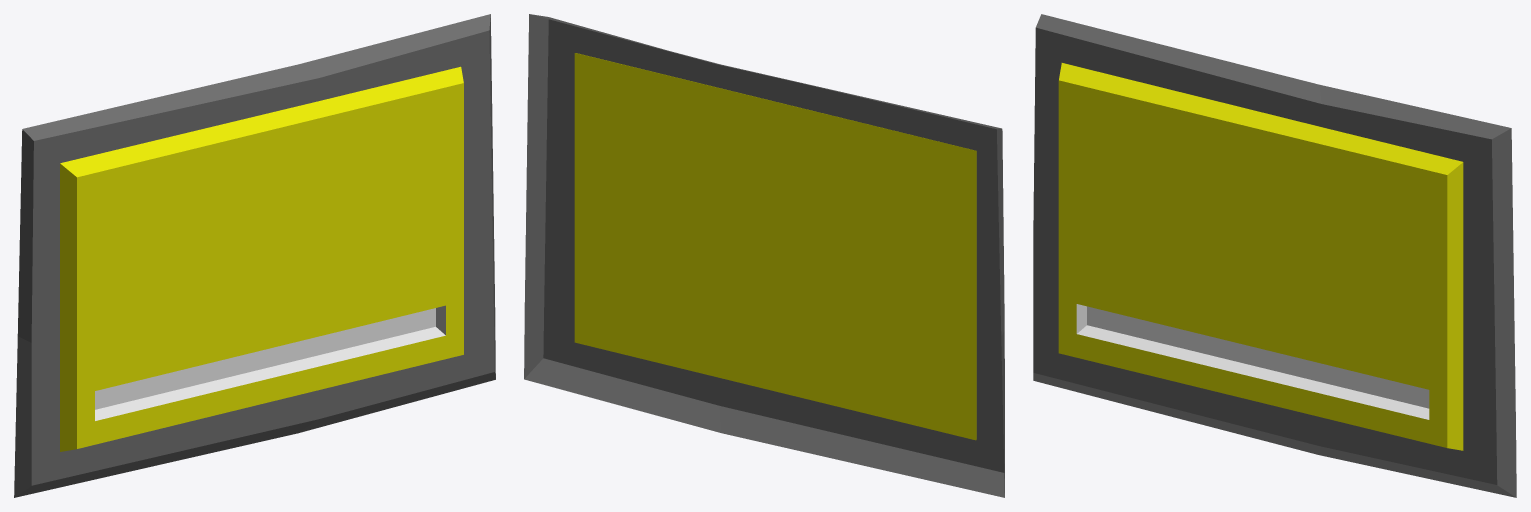
Rendered from Laundry_Luck.fbx.
3 renders of one model, left to right at view 1: azimuth 30°, elevation 25°; view 2: azimuth 150°, elevation 25°; view 3: azimuth 330°, elevation 25°, orthographic.
Visible parts, largest first — view 1: Laundry_Luck; view 2: Laundry_Luck; view 3: Laundry_Luck.
Part boxes in pixels (bbox=[...]): Laundry_Luck: bbox=[14, 14, 495, 497]; Laundry_Luck: bbox=[524, 14, 1004, 497]; Laundry_Luck: bbox=[1033, 14, 1516, 497].
Bounding box in the file's own units: 141 × 104 × 9.48.
